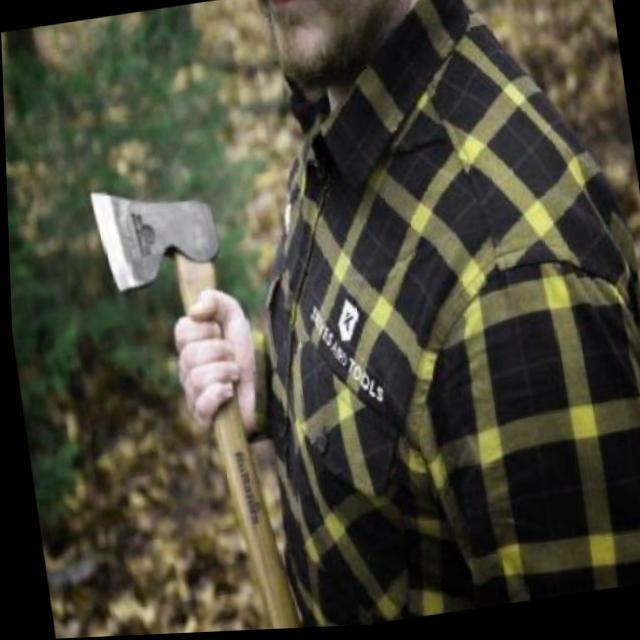weapon: (79, 163, 318, 638)
